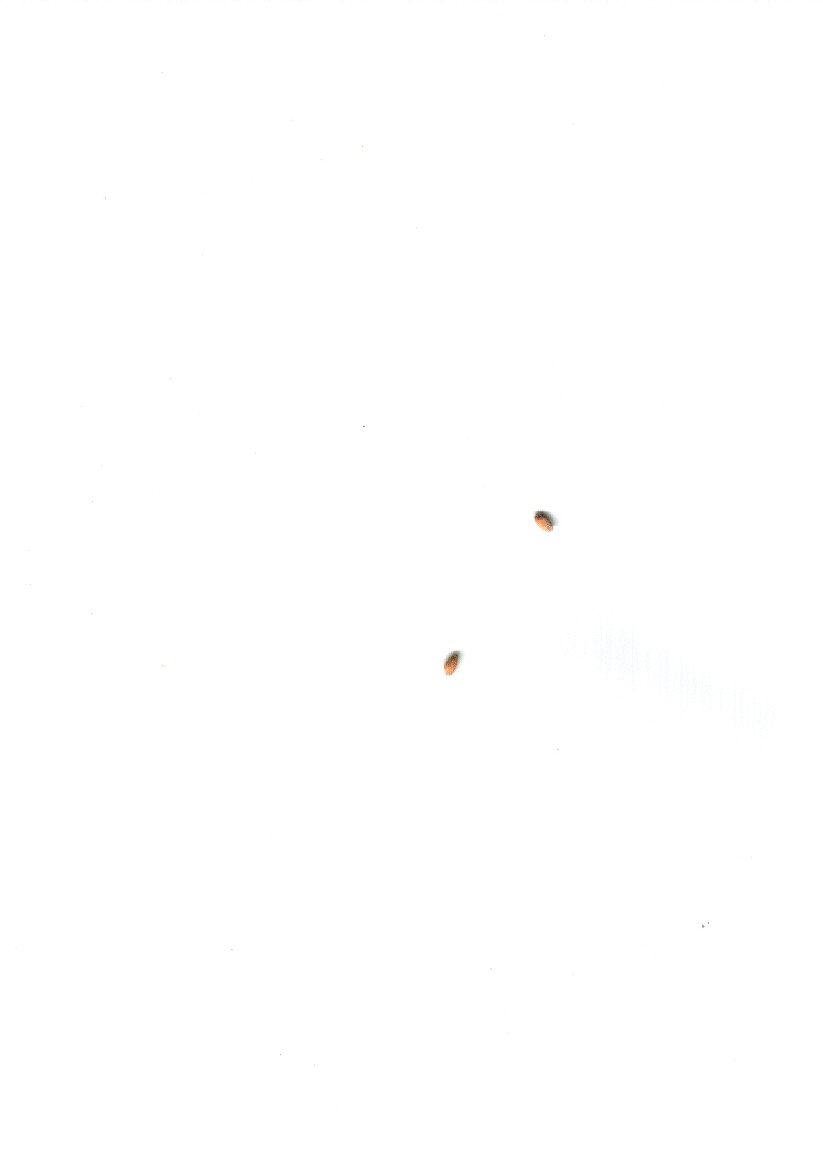grains: (433, 640, 468, 695), (527, 501, 562, 542)
